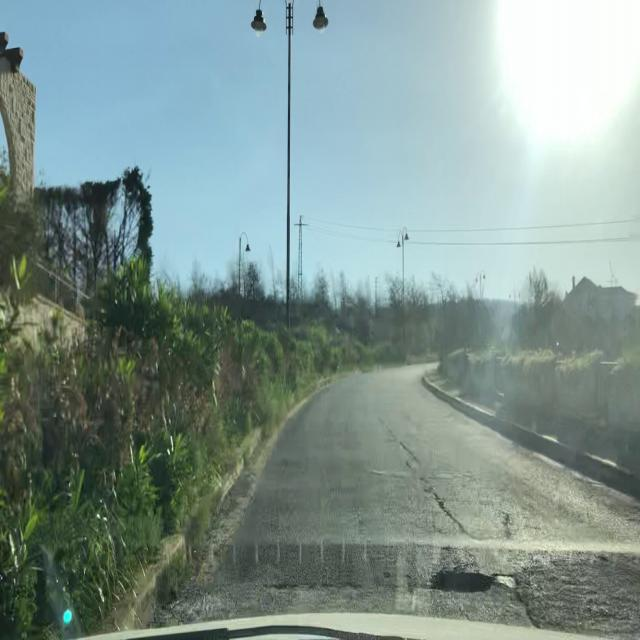Pothole: (421, 562, 496, 605)
